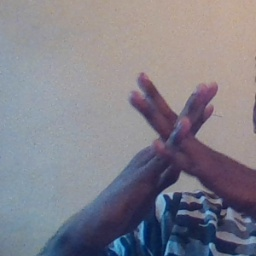W: (117, 61, 229, 218)
